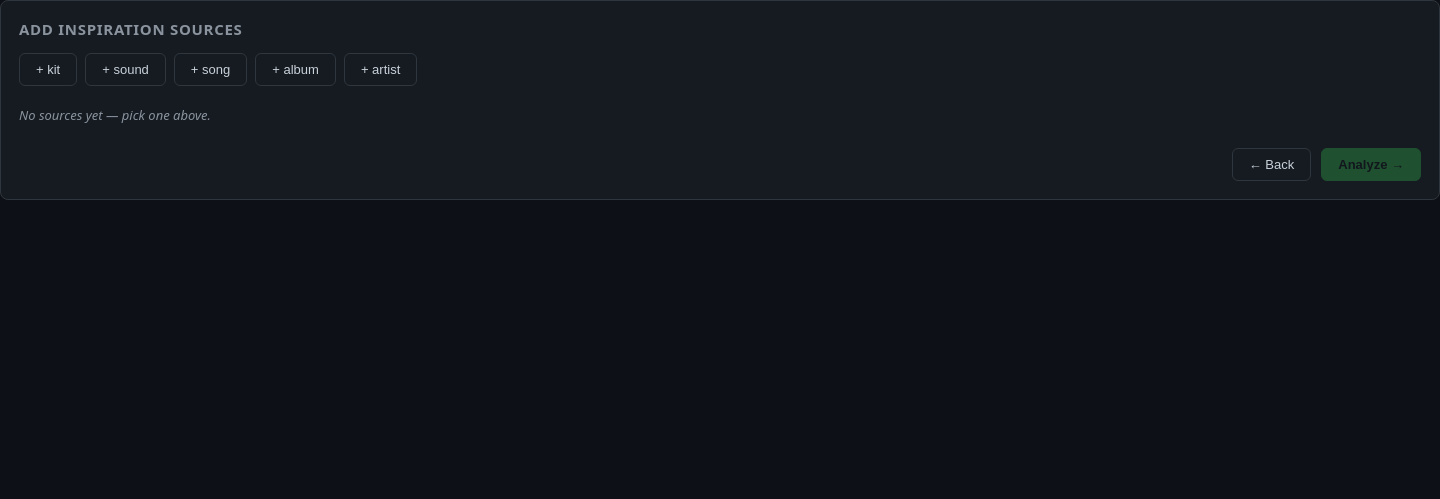
Scenario: AddStep draft error feedback › correcting an invalid draft clears the alert (display-name-only branch)
Click the button with test id "wizard-add-artist". click: coordinates (381, 70)
box: x1=344 y1=53 x2=417 y2=86
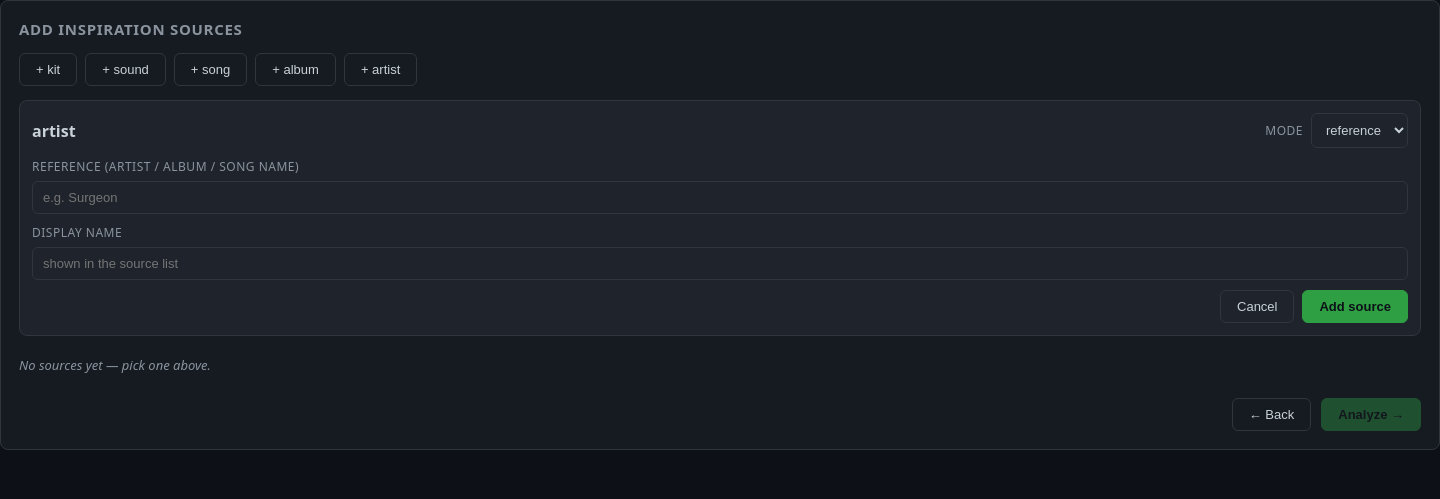
Type "Surgeon" into the field with test id "wizard-draft-location". click: coordinates (720, 198)
box: x1=32 y1=181 x2=1408 y2=214
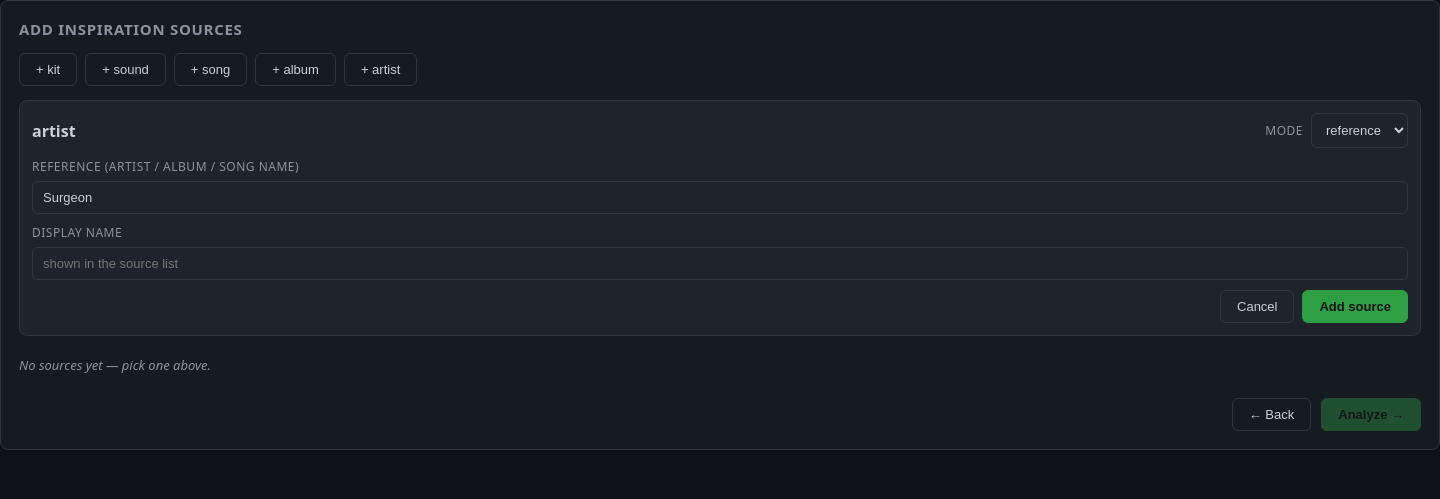
// display name still blank — confirm fails.
Click the button with test id "wizard-draft-confirm". click: coordinates (1355, 306)
box: x1=1302 y1=290 x2=1408 y2=323
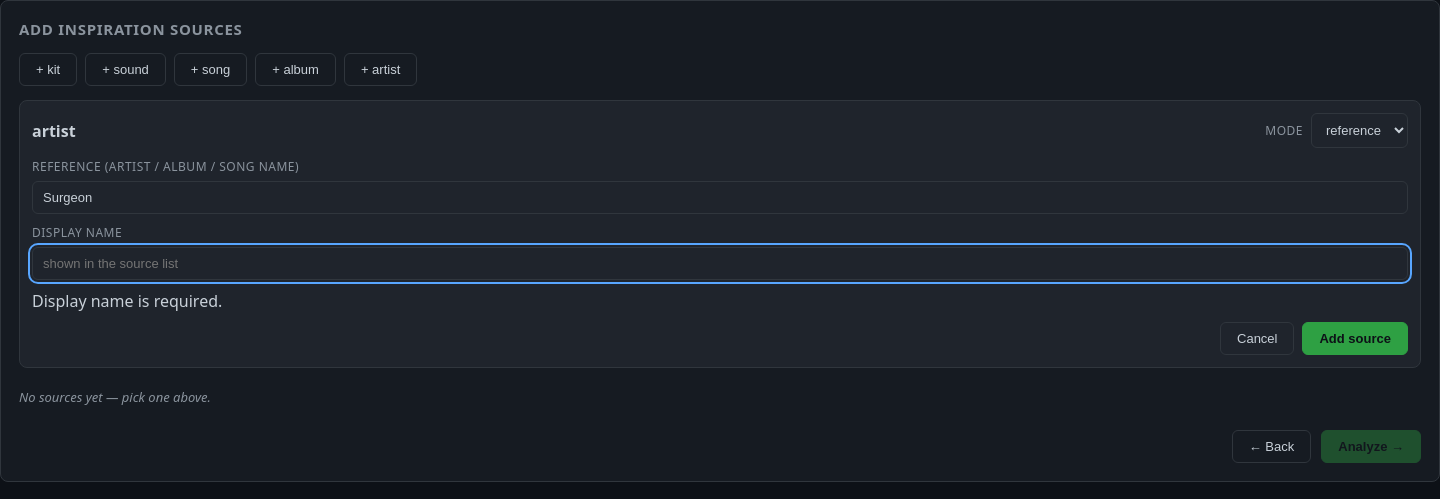
Expected: the message shows "Display name", x1=32 y1=290 x2=222 y2=312
Type "Surgeon" into the field with test id "wizard-draft-display-name". click: coordinates (720, 264)
box: x1=32 y1=247 x2=1408 y2=280
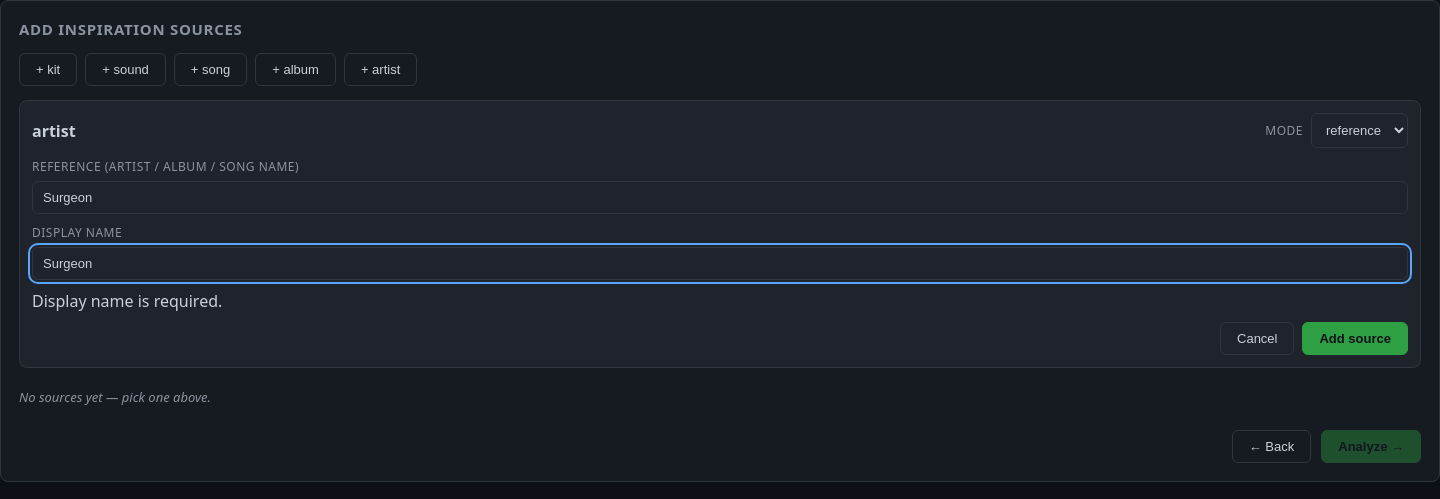
Click the button with test id "wizard-draft-confirm". click: coordinates (1355, 338)
box: x1=1302 y1=322 x2=1408 y2=355
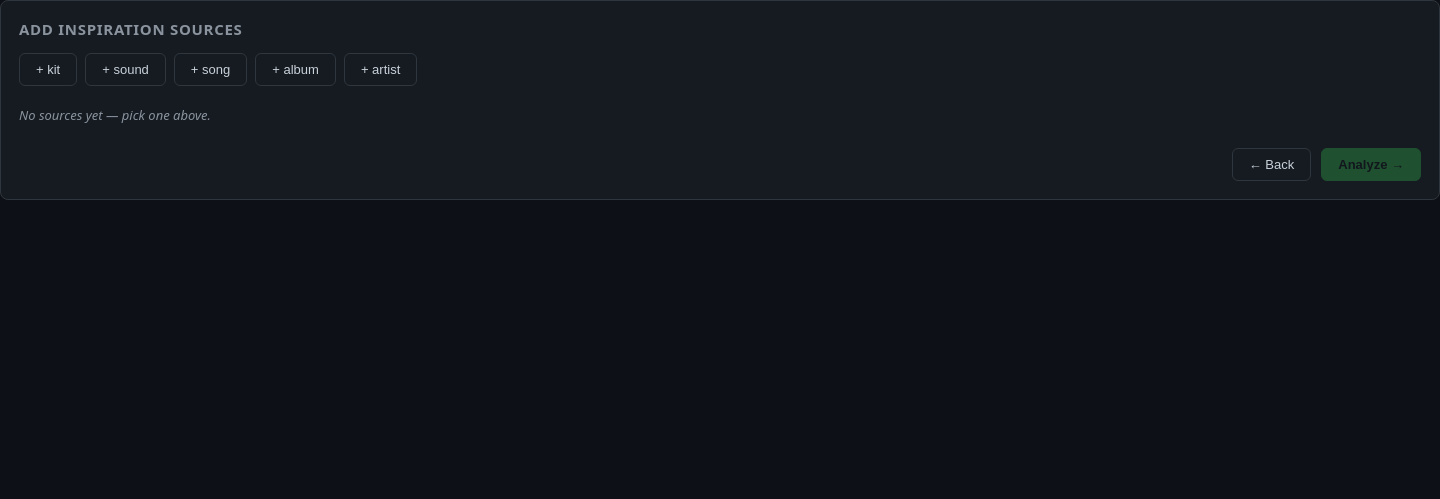
Expected: the message "Display name is required." is gone
